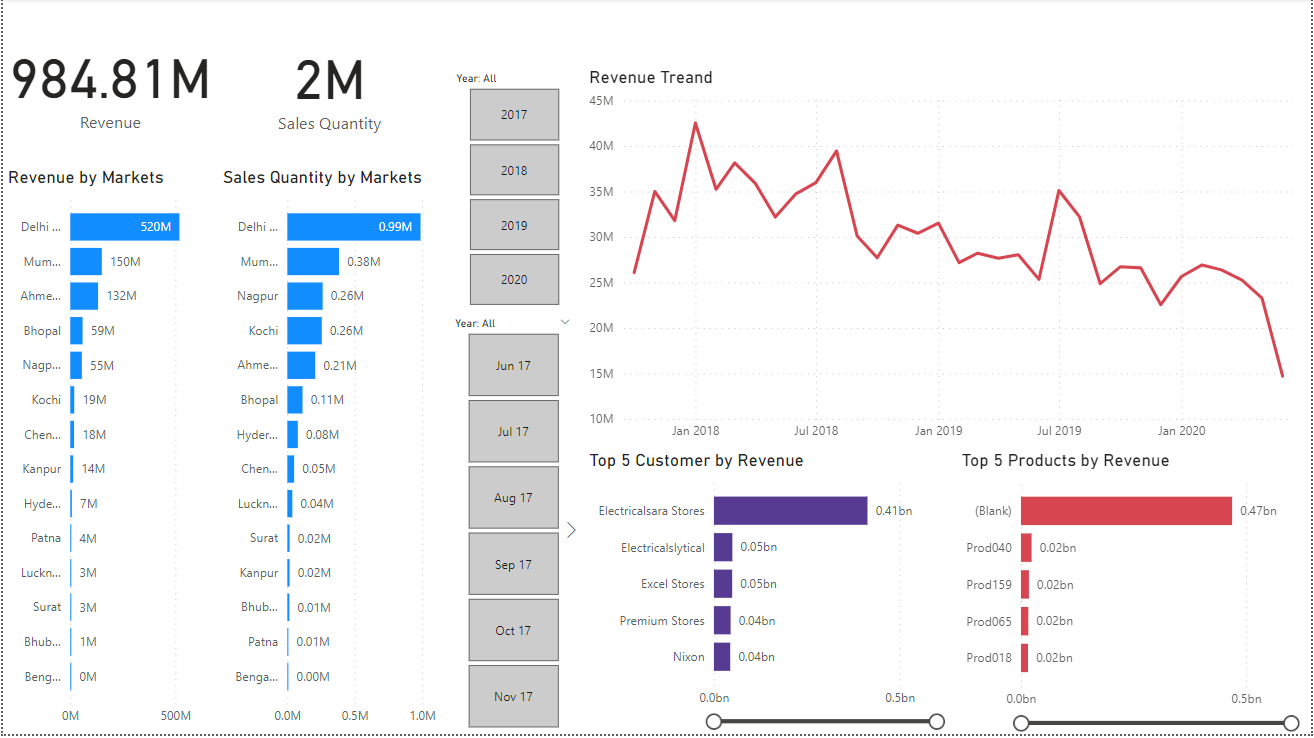

What the dashboard file says about the page in this screenshot:
{"tool":"powerbi","page":{"name":"Page 1","canvas":[1280,720],"ordinal":0},"visuals":[{"type":"card","fields":{"Values":["BaseMeasures.Revenue"]},"box":[0,0,210.3,165],"z":0},{"type":"card","fields":{"Values":["BaseMeasures.Sales Quantity"]},"box":[210.3,1.2,218.8,165],"z":1000},{"type":"barChart","title":"Revenue by Markets","fields":{"Category":["sales markets.markets_name"],"Y":["BaseMeasures.Revenue"]},"box":[0,165,210.3,555],"z":2000},{"type":"barChart","title":"Sales Quantity by Markets","fields":{"Category":["sales markets.markets_name"],"Y":["BaseMeasures.Sales Quantity"]},"box":[210.3,165,218.8,555],"z":3000},{"type":"slicer","title":"Year","fields":{"Values":["sales date.year"]},"box":[430.9,67.2,137.2,240.1],"z":4000},{"type":"slicer","title":"Year","fields":{"Values":["sales date.cy_date"]},"box":[429.1,306.8,138.1,413.2],"z":5000},{"type":"barChart","title":"Top 5 Customer by Revenue","fields":{"Category":["sales customers.custmer_name"],"Y":["BaseMeasures.Revenue"]},"box":[568.1,441.9,365,277.2],"z":6000},{"type":"barChart","title":"Top 5 Products by Revenue","fields":{"Category":["sales products.product_code"],"Y":["BaseMeasures.Revenue"]},"box":[933.1,441.9,347.2,278.6],"z":7000},{"type":"lineChart","title":"Revenue Treand","fields":{"Y":["BaseMeasures.Revenue"],"Category":["sales date.cy_date.Variation.Date Hierarchy.Year","sales date.cy_date.Variation.Date Hierarchy.Quarter","sales date.cy_date.Variation.Date Hierarchy.Month","sales date.cy_date.Variation.Date Hierarchy.Day"]},"box":[568.1,67.2,712.2,374.6],"z":8000}]}

Visuals, with their boxes in screenshot pixels (x1, y1, x2, y2), scaled from the page's 1280x720 canvas onto the 1314x738 screenshot:
card - BaseMeasures.Revenue: box(0, 0, 216, 169)
card - BaseMeasures.Sales Quantity: box(216, 1, 440, 170)
"Revenue by Markets" barChart: box(0, 169, 216, 737)
"Sales Quantity by Markets" barChart: box(216, 169, 440, 737)
"Year" slicer: box(442, 69, 583, 315)
"Year" slicer: box(440, 314, 582, 737)
"Top 5 Customer by Revenue" barChart: box(583, 453, 958, 737)
"Top 5 Products by Revenue" barChart: box(958, 453, 1313, 737)
"Revenue Treand" lineChart: box(583, 69, 1313, 453)
